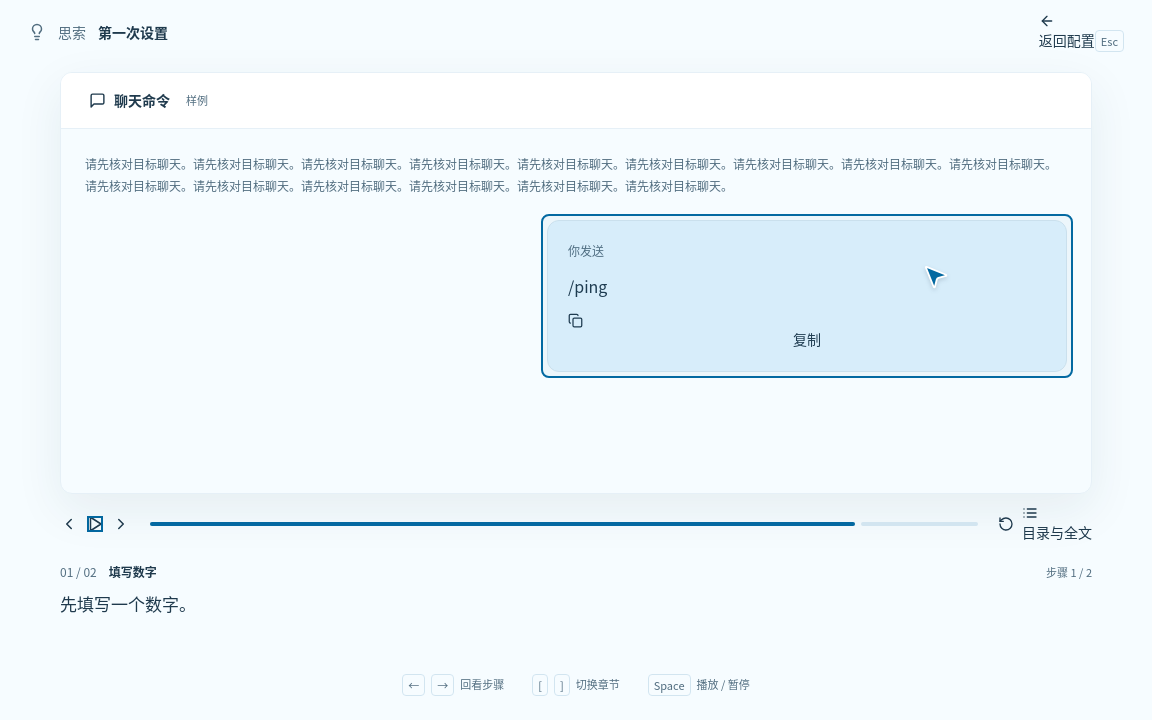
Test: 思索说明书播放器 › 连播为长说明及命令场景保留阅读时间，不再八秒强制切换
The image size is (1152, 720).
Step 1. Click the button named "播放演示" → (95, 524), box [86,515,104,533]
Wait 19000 ms
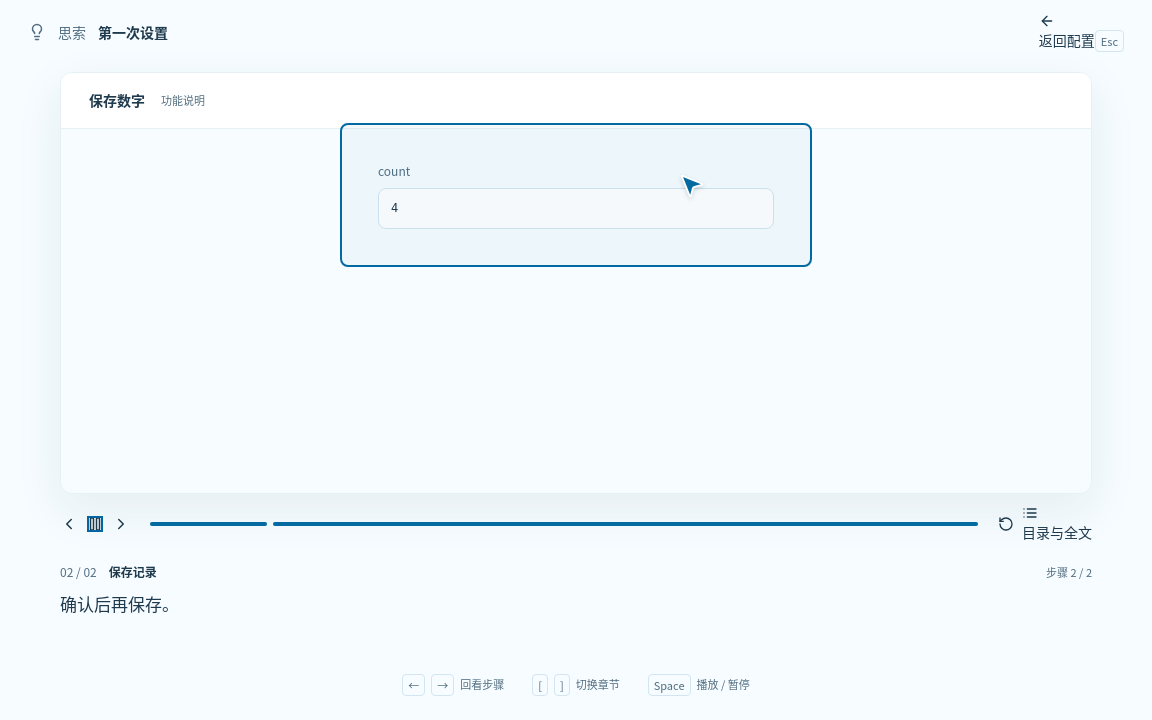
expect the text "确认后再保存。" is shown: met, box [60,591,179,616]
